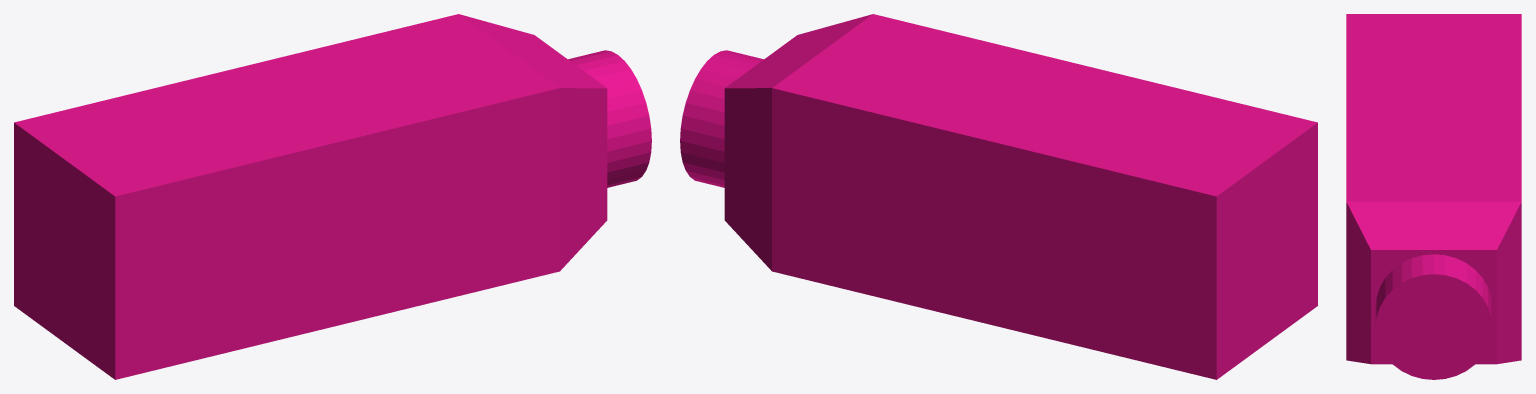
3 views of the same model, side by side, from view 1: azimuth 30°, elevation 25°; view 2: azimuth 150°, elevation 25°; view 3: azimuth 270°, elevation 25° (orthographic). The views are drawn at different scales.
Visible parts, largest first — view 1: Cup Yellow; view 2: Cup Yellow; view 3: Cup Yellow.
Part boxes in pixels (x1,y1,x2,y2): Cup Yellow: (14,14,651,379); Cup Yellow: (680,14,1317,379); Cup Yellow: (1346,14,1521,379).
Bounding box in the file's own units: 0.361 × 0.1143 × 0.1143.
